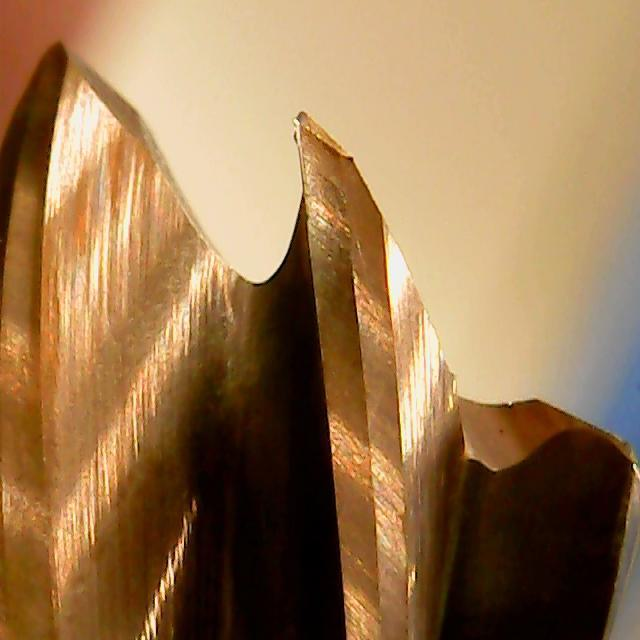Tool-wear-class-1: (270, 102, 386, 306)
